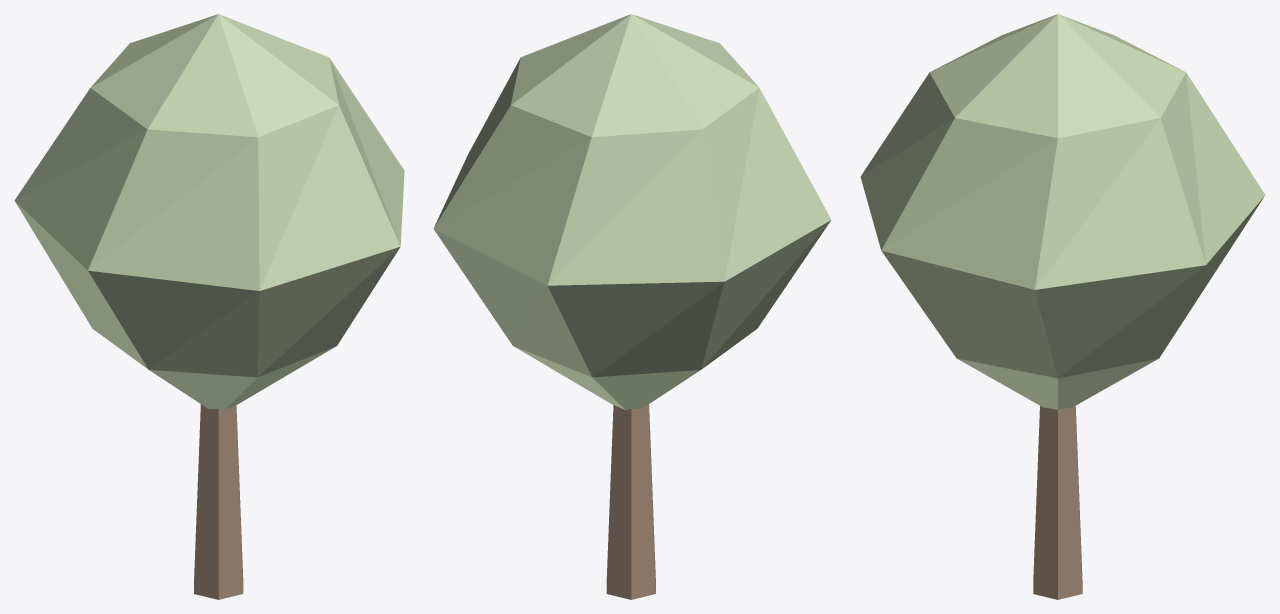
File: tree-birch.glb
3 views of the same model, side by side, from view 1: azimuth 30°, elevation 25°; view 2: azimuth 150°, elevation 25°; view 3: azimuth 270°, elevation 25° (orthographic).
Visible parts, largest first — view 1: tree-birch; view 2: tree-birch; view 3: tree-birch.
Part boxes in pixels (<box>): tree-birch: <box>14,14,404,599</box>; tree-birch: <box>433,14,831,599</box>; tree-birch: <box>860,14,1265,599</box>.
Size of the model in its own units: 4.96 by 8 by 5.12.
